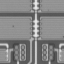dust: (11, 24, 15, 28)
